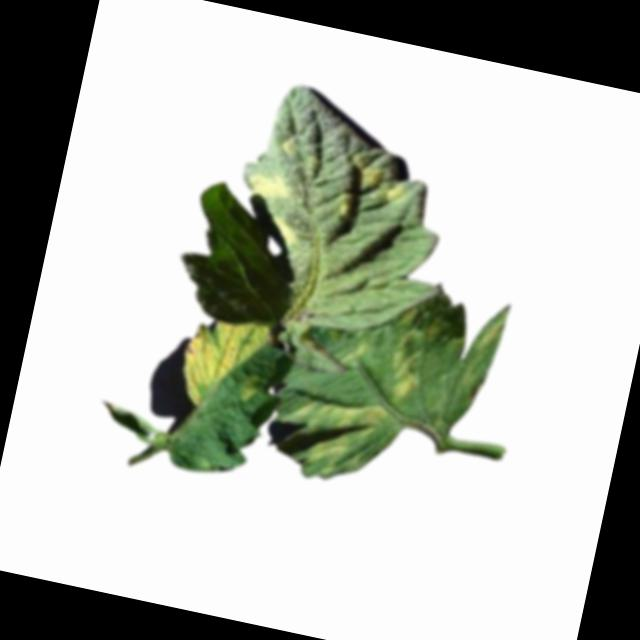Leaf_Mold: (173, 307, 271, 415), (282, 384, 392, 476), (378, 324, 430, 408), (244, 163, 298, 204), (347, 154, 383, 194), (383, 177, 407, 204)
